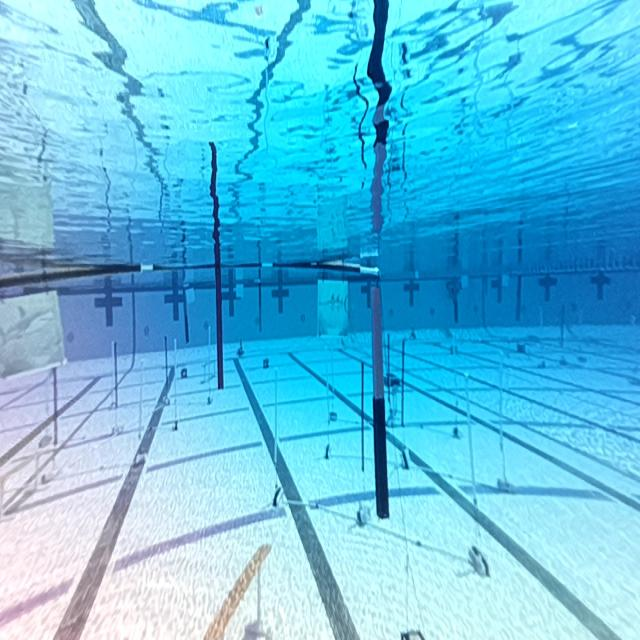pointed_nose: (318, 279, 349, 338)
round_nose: (0, 299, 62, 370)
